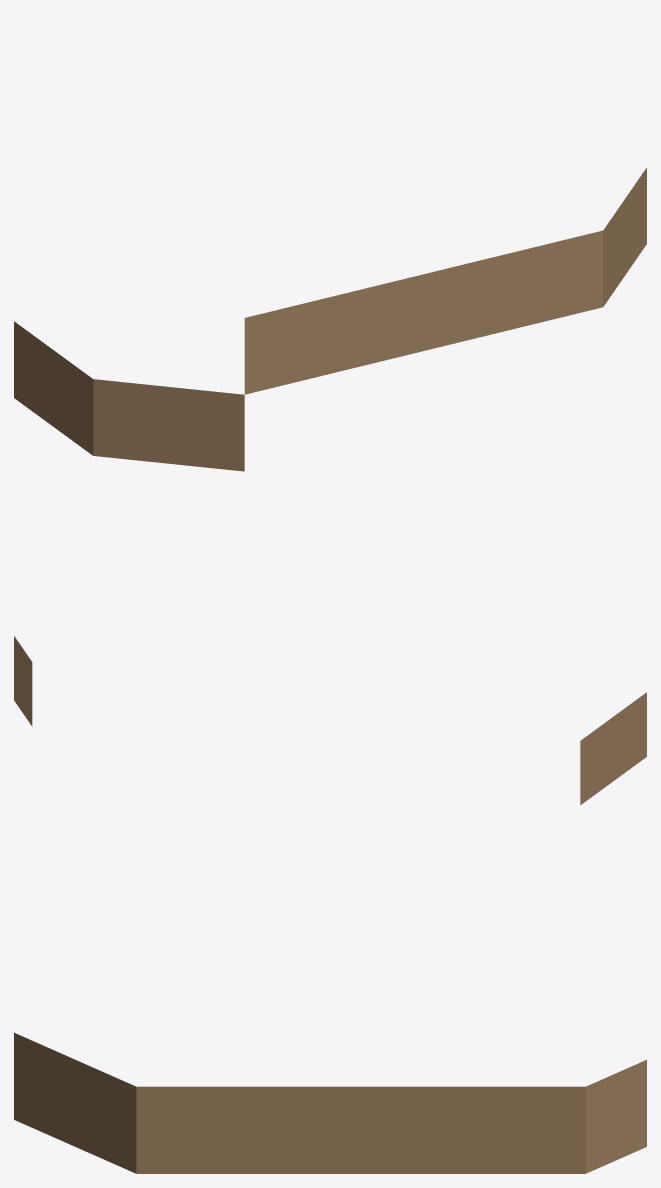
The model's file is 1388-Buildings-shell-pieces-facade-bay-wall-round-an-opening-reveals-sill-head-emitBa.glb.
3 views of the same model, one above another, from view 1: azimuth 30°, elevation 25°; view 2: azimuth 150°, elevation 25°; view 3: azimuth 270°, elevation 25° (orthographic). The views are drawn at different scales.
Visible parts, largest first — view 1: emitBay; view 2: emitBay; view 3: emitBay.
Part boxes in pixels (x1,y1,x2,y2): emitBay: (14,167,646,471); emitBay: (14,636,646,805); emitBay: (14,1032,646,1173).
Size of the model in its own units: 23 by 6.1 by 20.06.
